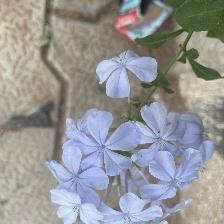chitrak: (63, 106, 139, 178), (144, 147, 205, 207), (133, 99, 189, 162), (48, 148, 110, 204), (97, 50, 162, 100), (99, 193, 168, 224), (49, 186, 103, 224)
